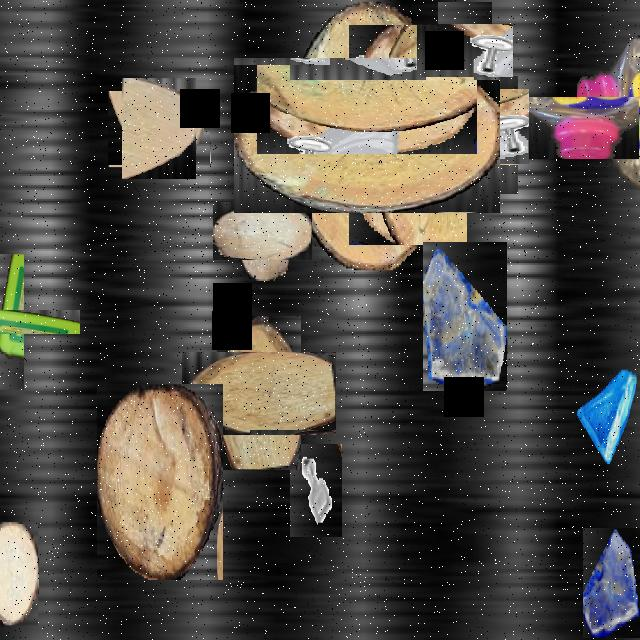glass: (423, 242, 507, 391), (408, 73, 514, 179), (576, 357, 636, 464), (583, 528, 640, 638)
metal: (428, 12, 502, 88), (290, 444, 342, 537)
plastic: (544, 64, 640, 191), (0, 282, 52, 361)
wood: (262, 29, 472, 241), (323, 50, 492, 220), (97, 384, 223, 580), (200, 334, 318, 452), (115, 84, 203, 172), (222, 192, 302, 270), (0, 522, 38, 626)
